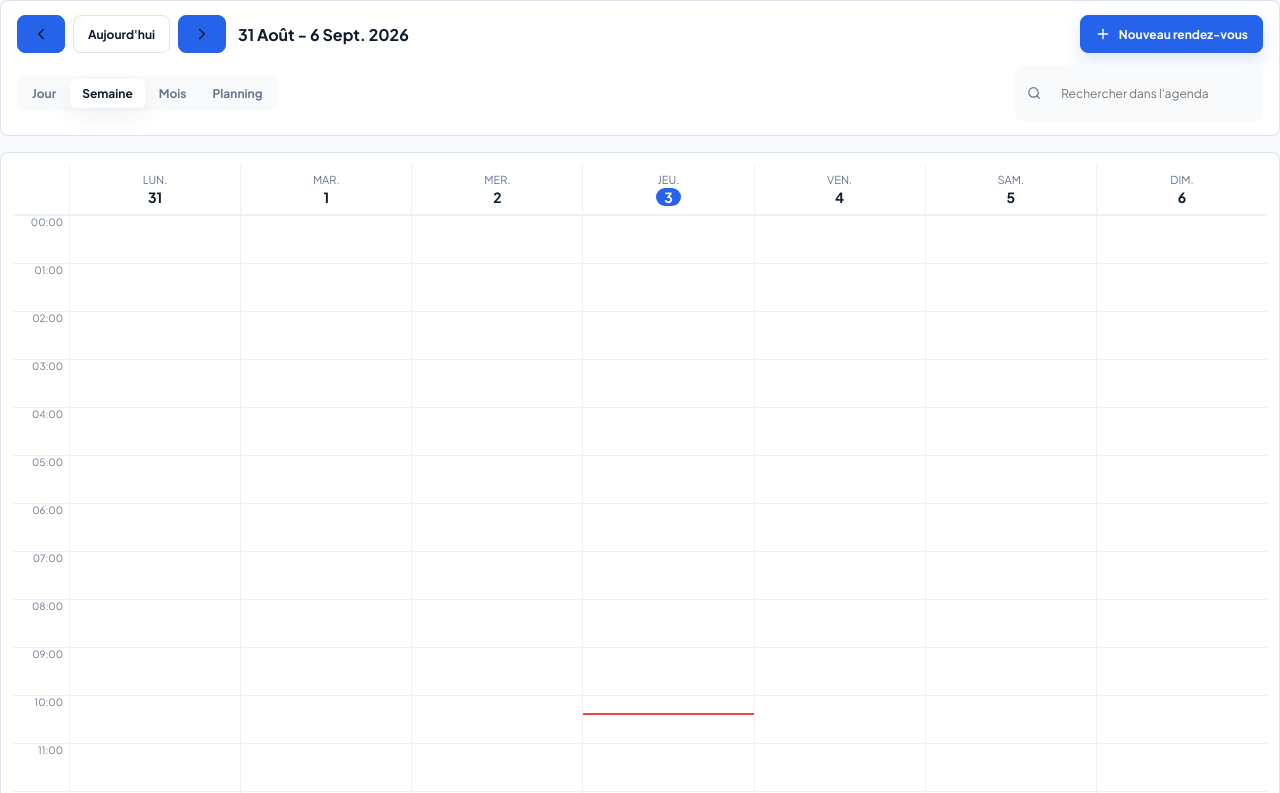
it: CalendarPage event creation errors › falls back to a generic description when the API rejects without an Error instance
The image size is (1280, 793).
Click the button "Nouveau rendez-vous".
click(1171, 34)  # box [1080, 15, 1263, 53]
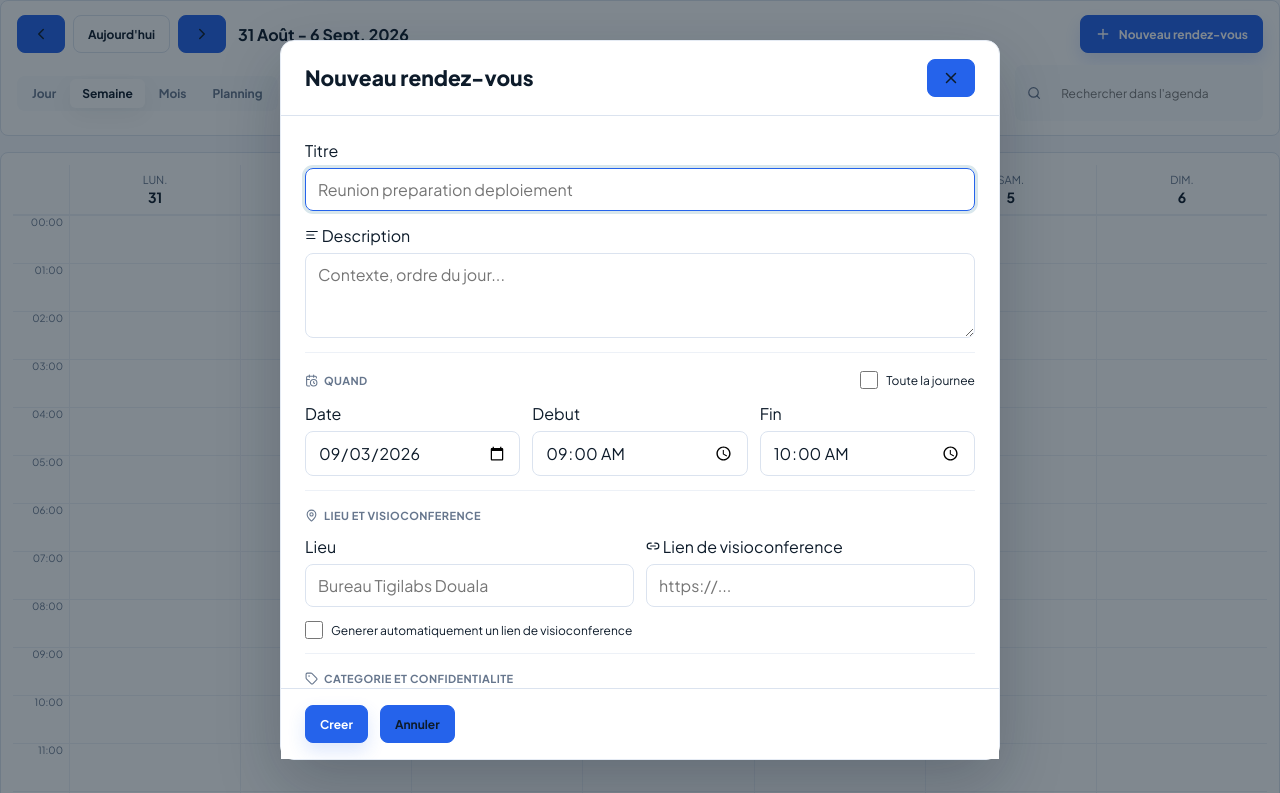
Type "Point client" into the field with placeholder "Reunion preparation deploiement".
click(640, 190); type("Point client")  # box [305, 168, 975, 211]
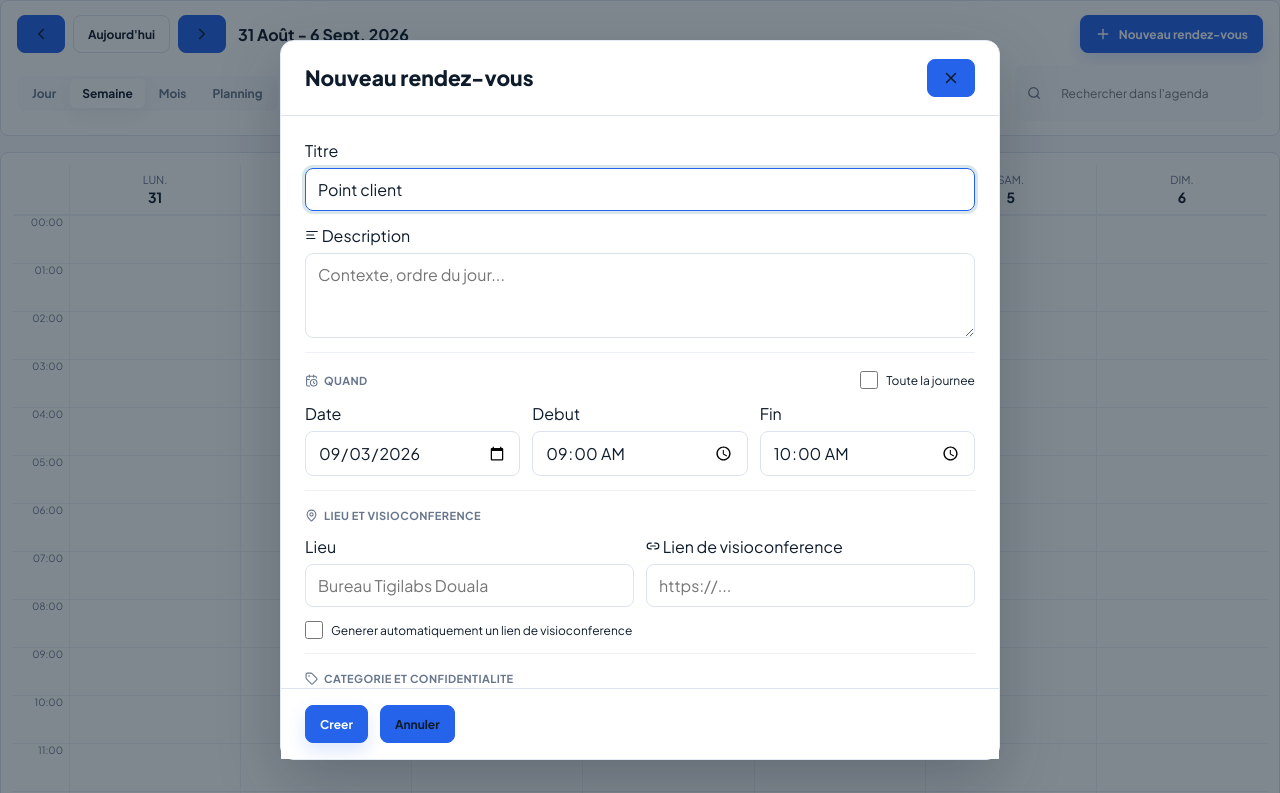
Click the button "Creer".
click(336, 724)  # box [305, 705, 368, 743]
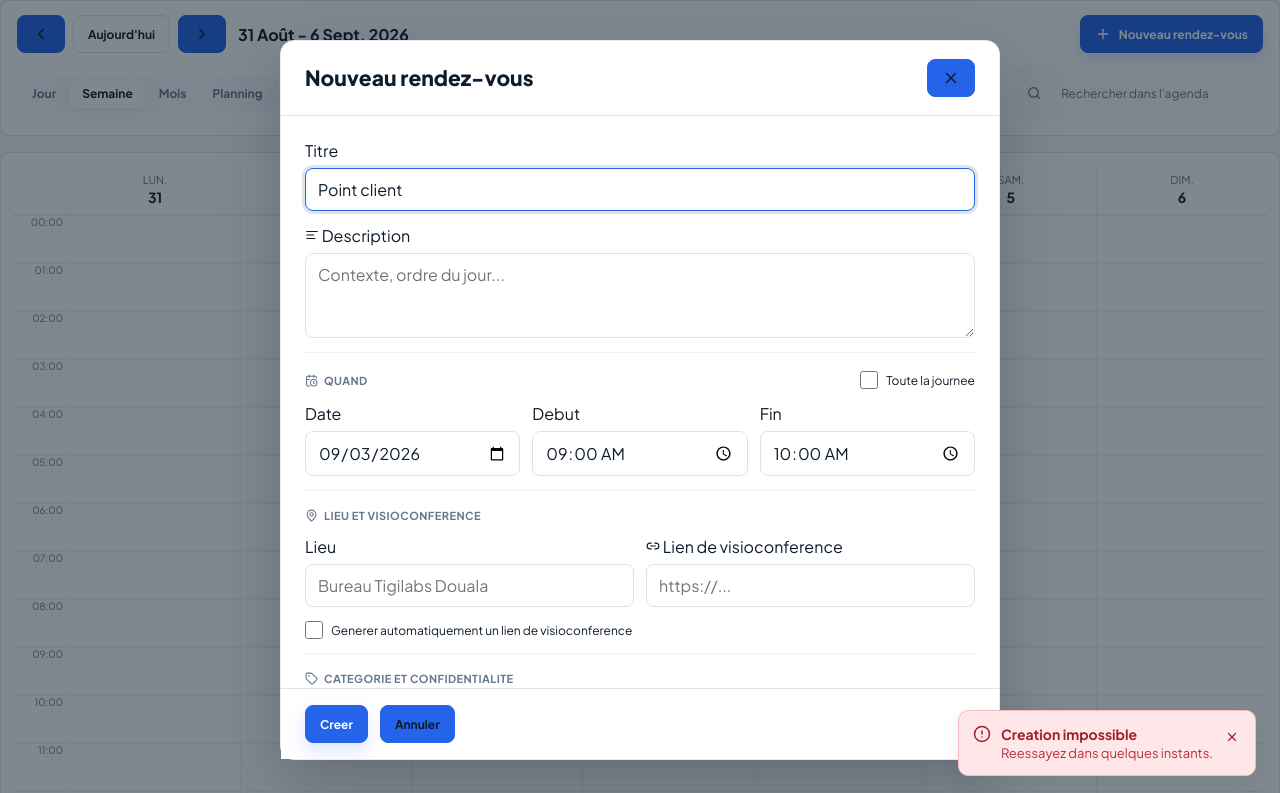
Expected: the text "Creation impossible" is shown, [1001, 725, 1137, 743]
Expected: the text "Reessayez dans quelques instants." is shown, [1001, 745, 1213, 761]
